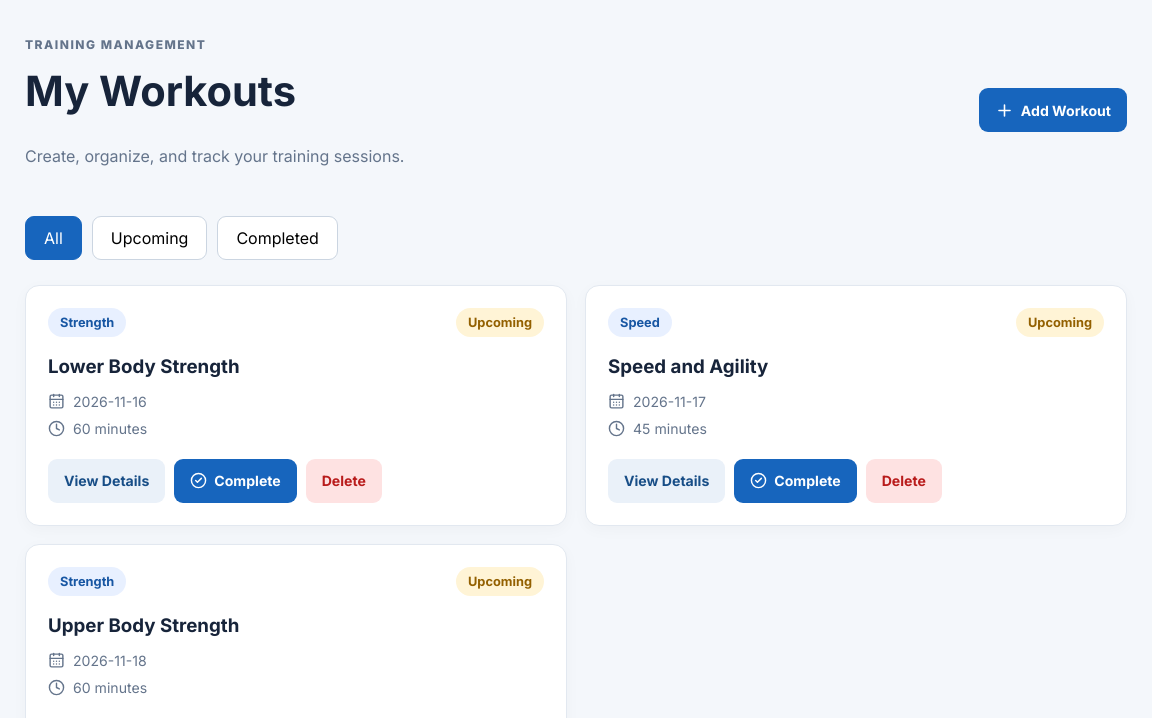
Workouts Page › opens the Add Workout form
Click the button "Add Workout" at x=1053, y=110, box [979,88,1127,132]
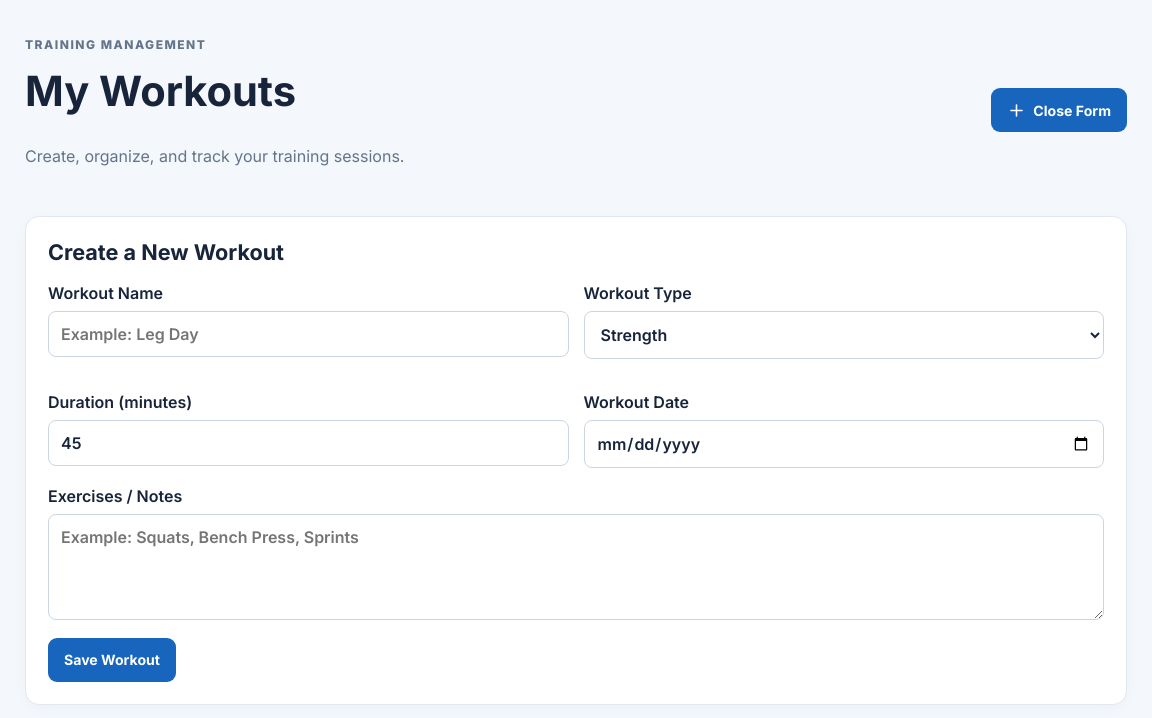
Expected: the heading "Create a New Workout" is shown, [48,239,284,265]
